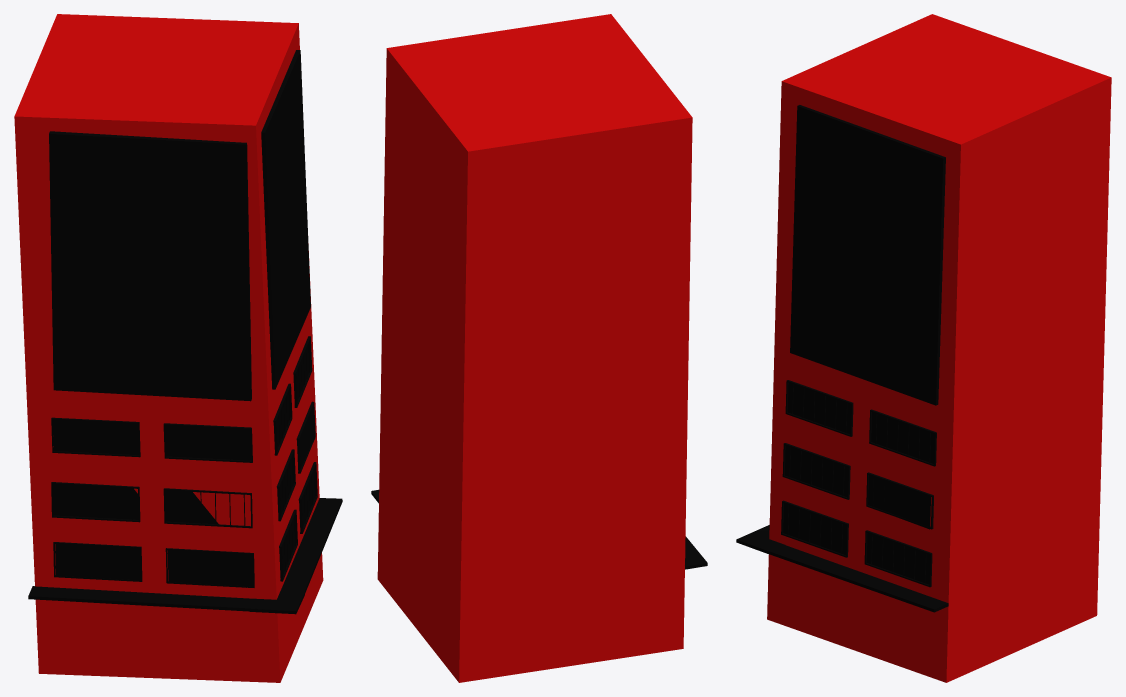
Rendered from new comercial average.fbx.
3 renders of one model, left to right at view 1: azimuth 30°, elevation 25°; view 2: azimuth 150°, elevation 25°; view 3: azimuth 270°, elevation 25°, orthographic. The views are drawn at different scales.
Parts seen in each view (by area): view 1: polySurface551; view 2: polySurface551; view 3: polySurface551.
Boxes of the visible parts, x1,y1,x2,y2 form: polySurface551: (14, 14, 342, 682); polySurface551: (371, 14, 707, 682); polySurface551: (736, 14, 1111, 682).
Bounding box in the file's own units: 3105 × 5079 × 3204.
